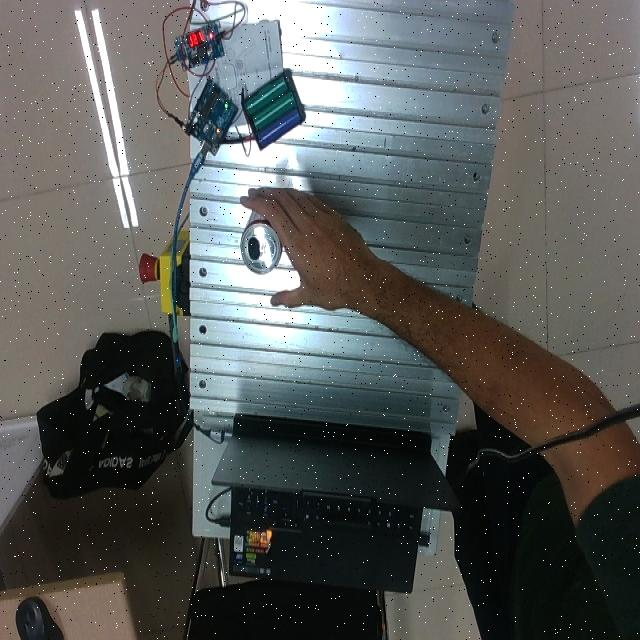coca: (240, 212, 283, 277)
